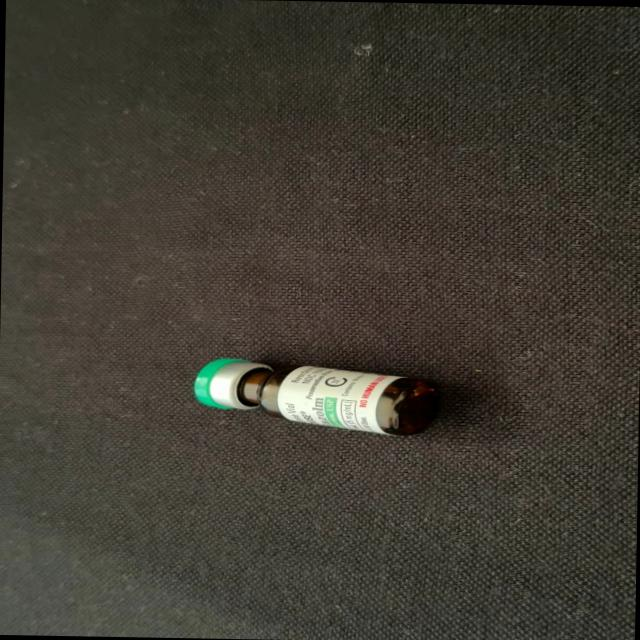midazolm: (198, 357, 434, 434)
